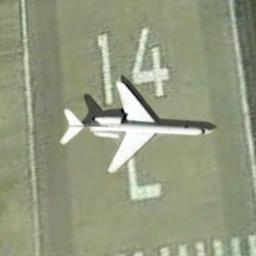Airplane: (56, 76, 220, 185)
